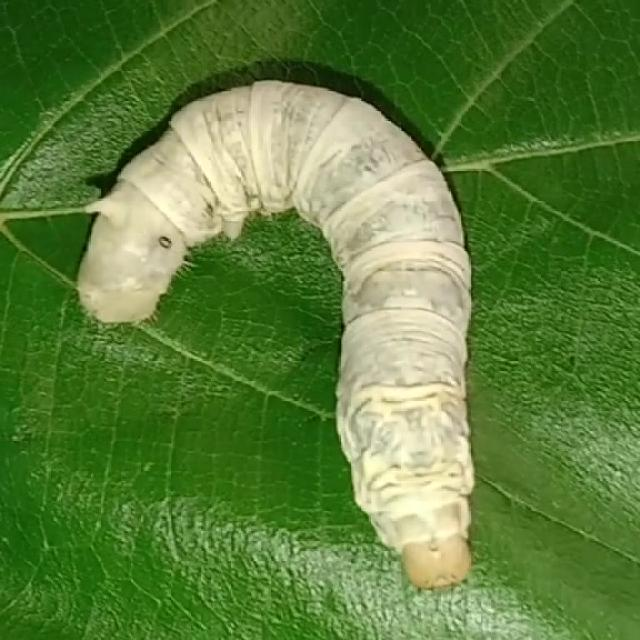Grasserie: (70, 55, 494, 589)
